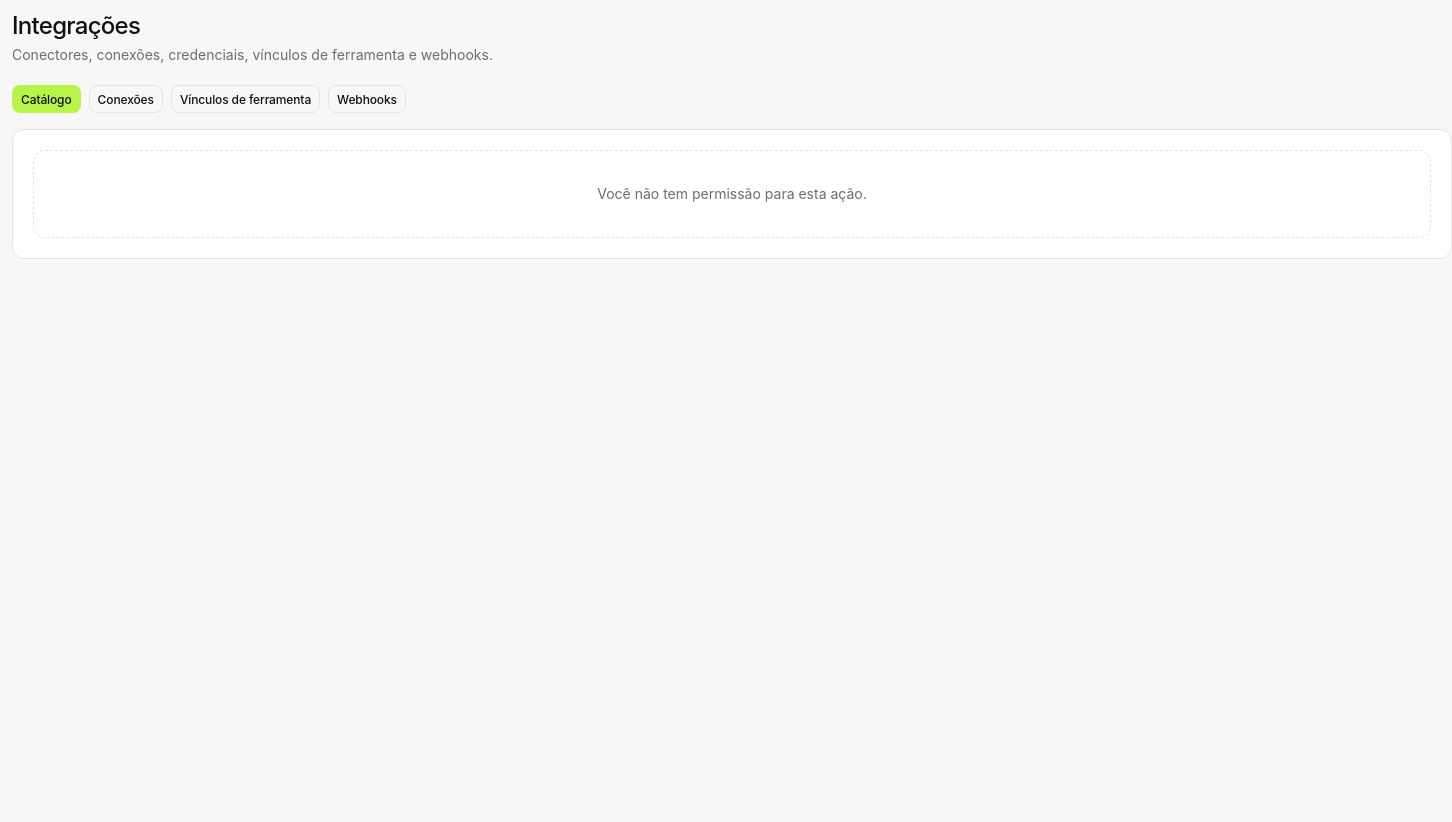
Test: IntegrationsPage — conexões › cria uma conexão pelo formulário
Click the tab "Conexões" at (126, 99), box [89, 85, 163, 113]
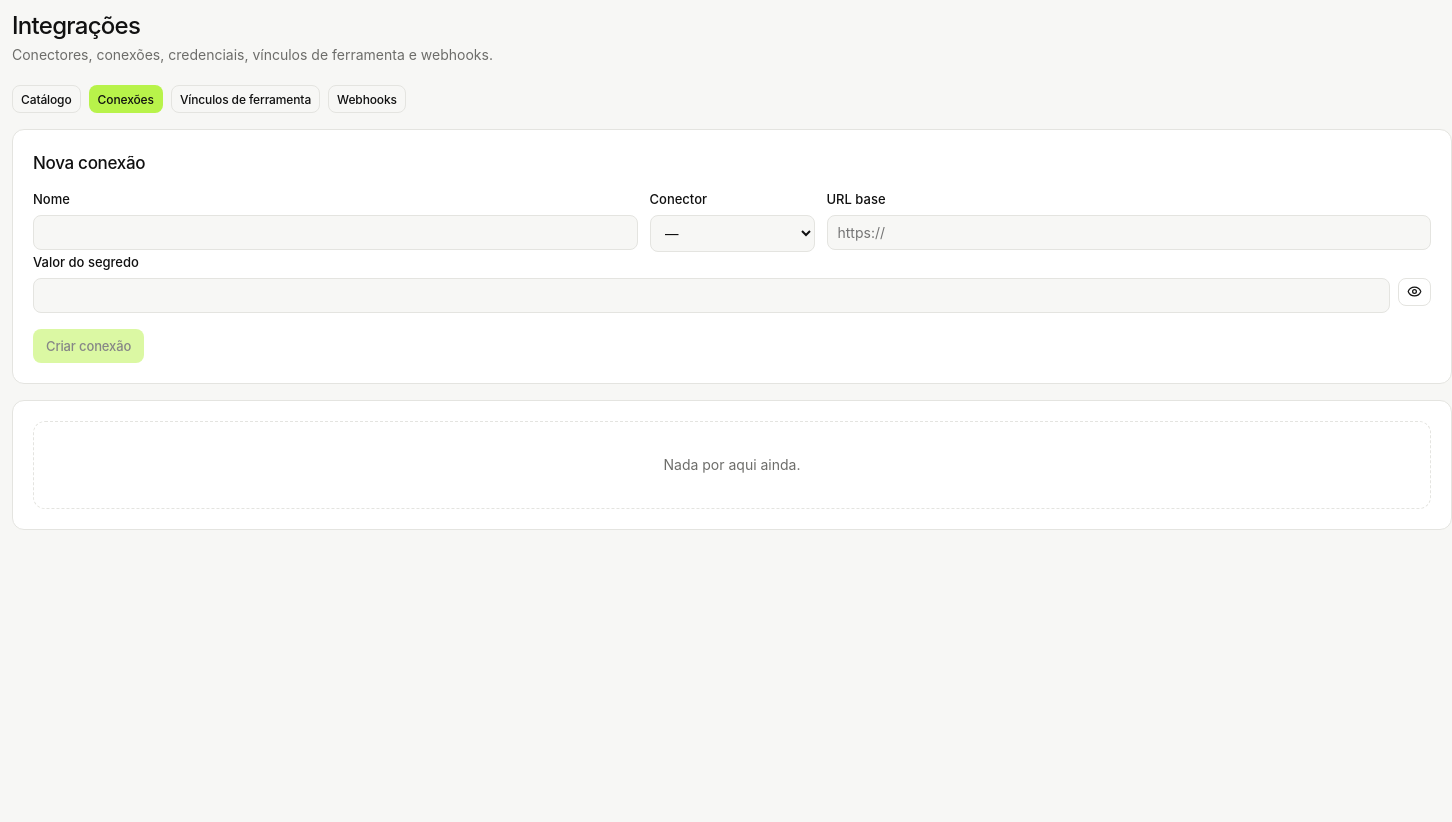
Now the text "Nada por aqui ainda." is shown, box [33, 421, 1431, 509]
Type "My connection" into the field labelled "Nome" at (335, 232), box [33, 215, 638, 250]
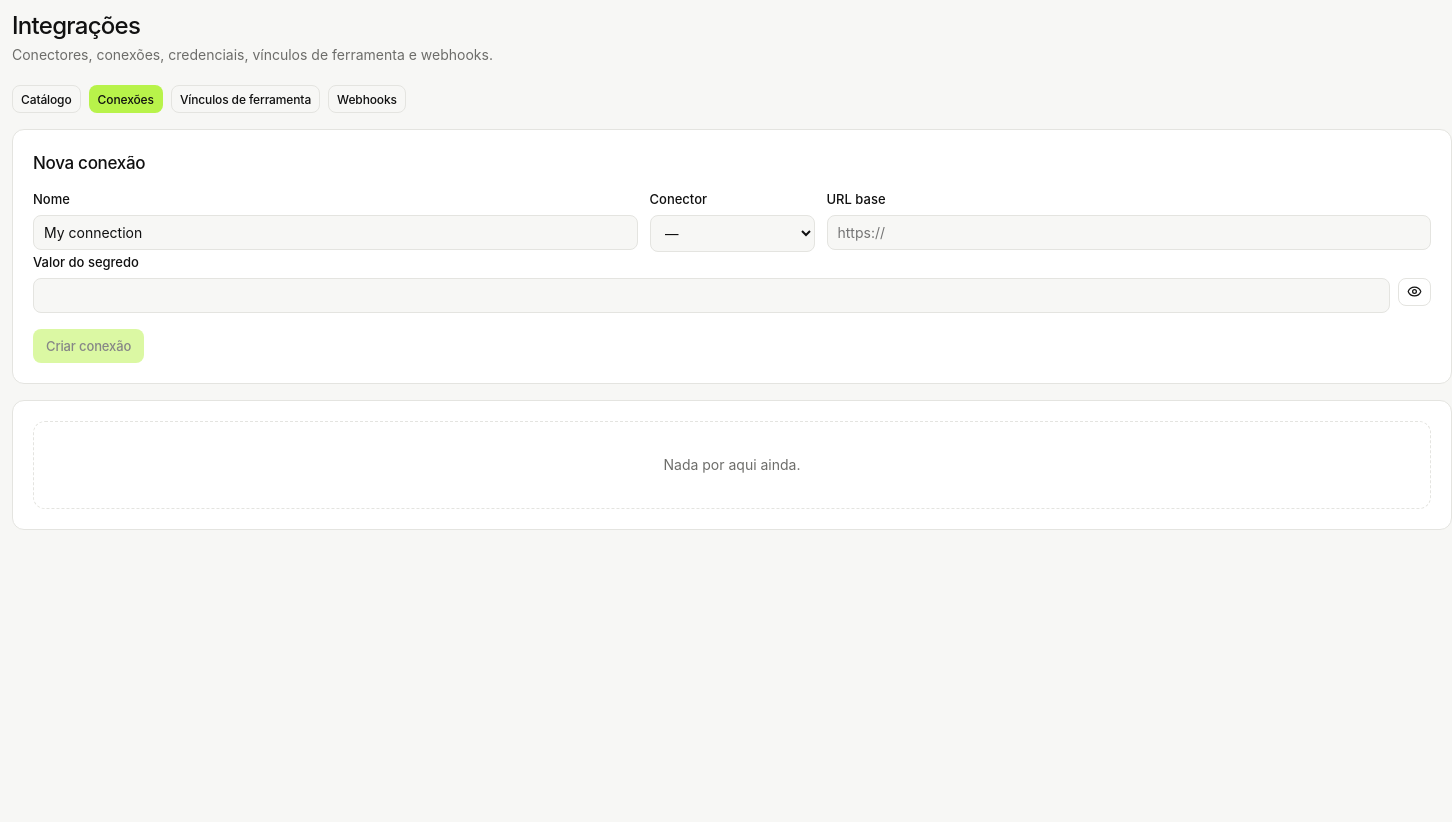
Select "HTTP REST" in the dropdown labelled "Conector" at (732, 233), box [650, 215, 814, 252]
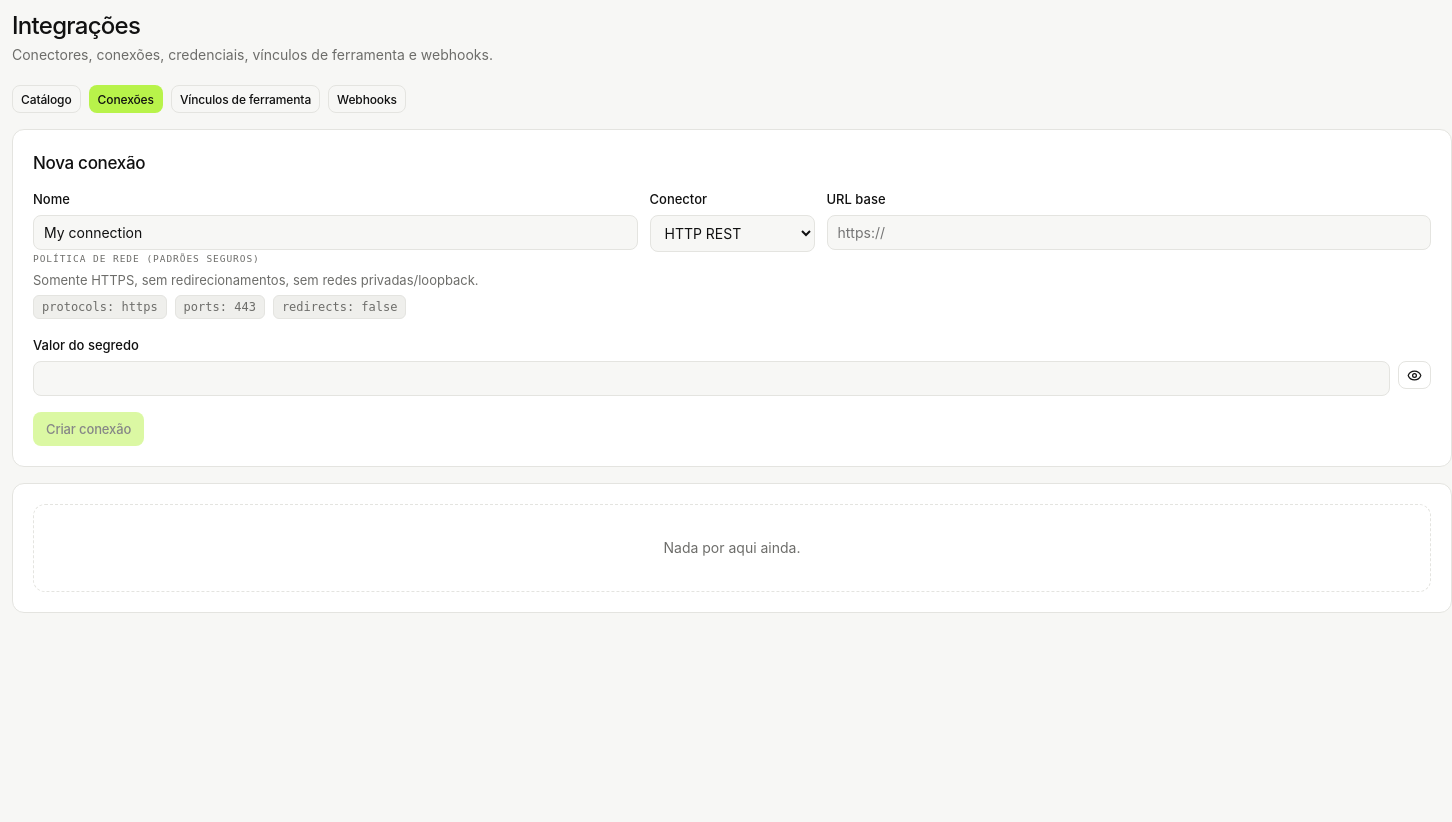
Type "https://api.example.com" into the field with placeholder "https://" at (1129, 232), box [826, 215, 1431, 250]
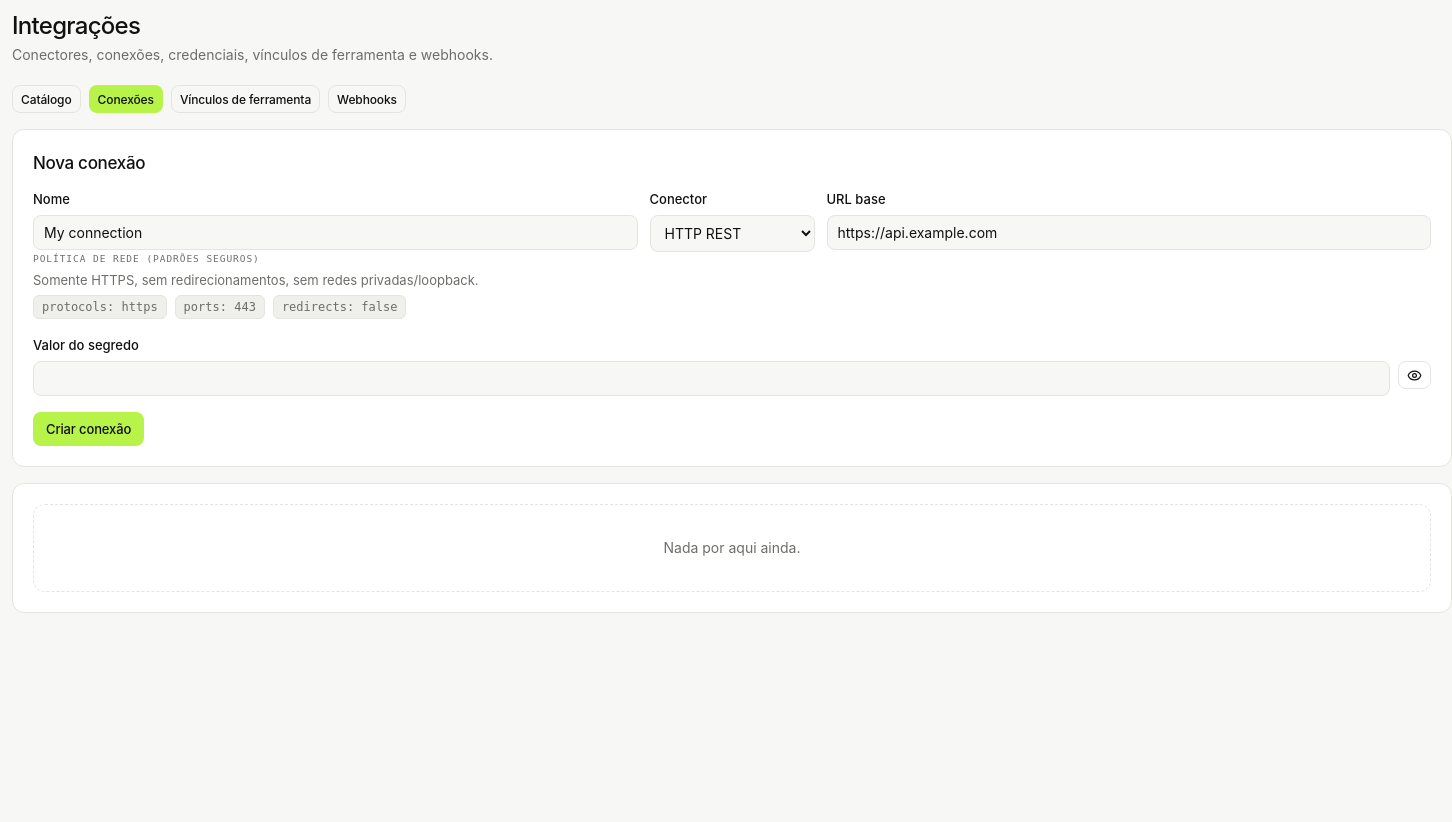
Click the button "Criar conexão" at (89, 429), box [33, 412, 144, 446]
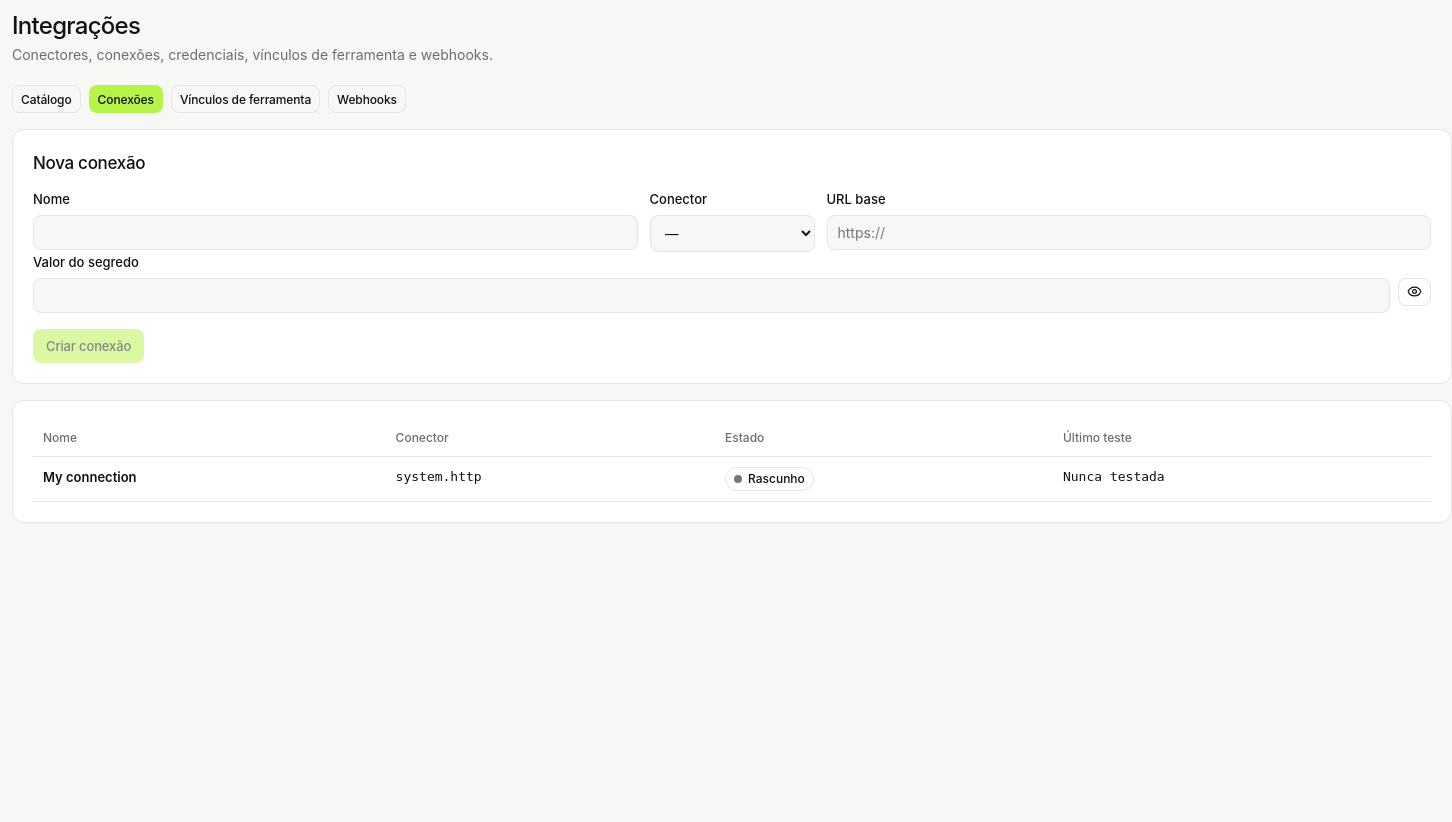
Now the button "My connection" is shown, box [43, 466, 136, 487]
